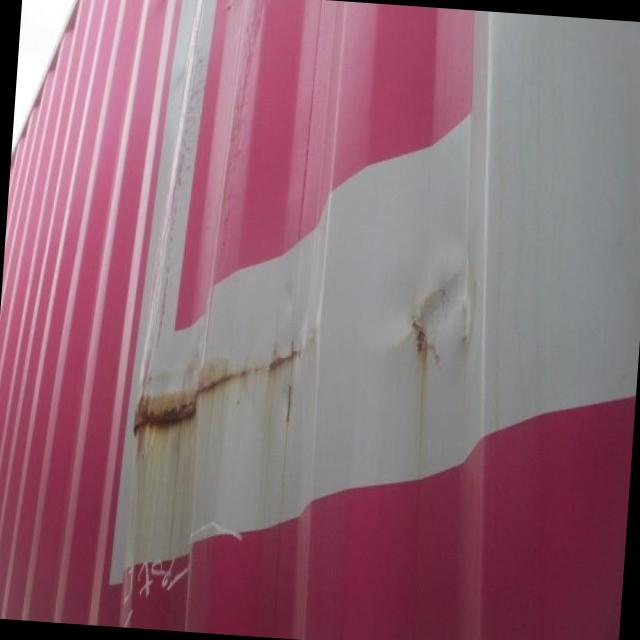Deframe_or_Dent: (102, 186, 340, 548), (379, 253, 492, 384)
